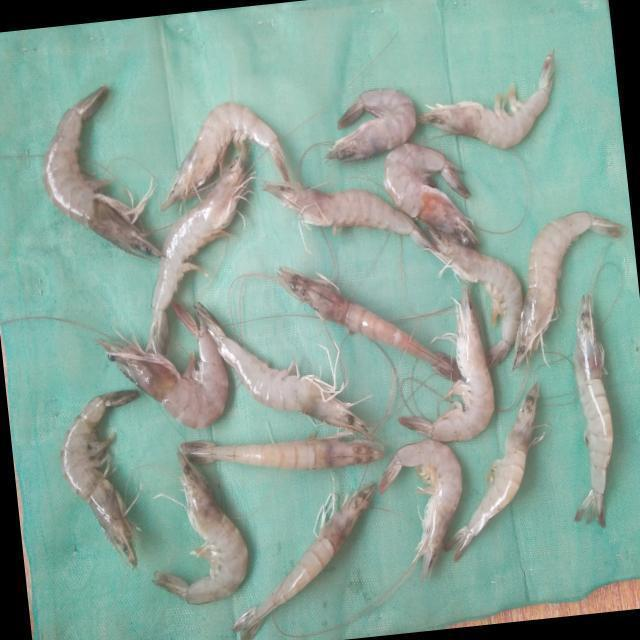shrimp: (195, 302, 369, 437), (232, 484, 375, 640), (148, 142, 251, 353), (275, 266, 460, 381), (41, 84, 160, 255), (445, 383, 543, 562), (514, 211, 625, 368), (96, 301, 228, 429), (399, 285, 495, 442), (152, 451, 247, 604), (59, 390, 138, 567), (160, 101, 289, 209), (428, 226, 523, 368), (418, 50, 555, 147), (263, 180, 439, 252), (378, 440, 462, 579), (383, 141, 480, 246), (575, 294, 614, 528), (180, 433, 384, 470), (326, 87, 416, 159)
